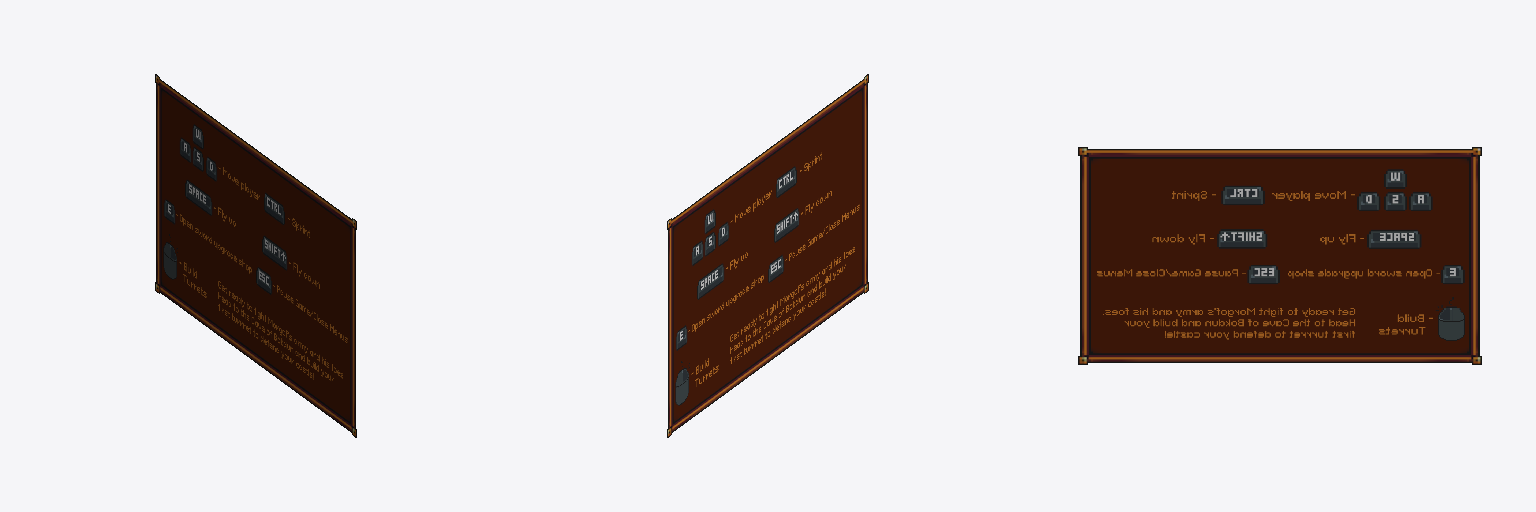
3 views of the same model, side by side, from view 1: azimuth 30°, elevation 25°; view 2: azimuth 150°, elevation 25°; view 3: azimuth 270°, elevation 25° (orthographic).
Parts seen in each view (by area): view 1: poster; view 2: poster; view 3: poster.
Part boxes in pixels (left/top/right/bottom): poster: left=155, top=74, right=356, bottom=437; poster: left=667, top=74, right=868, bottom=437; poster: left=1078, top=147, right=1481, bottom=364.
Size of the model in its own units: 0 by 1459 by 2454.
Materials: 1 (1 with a texture image).